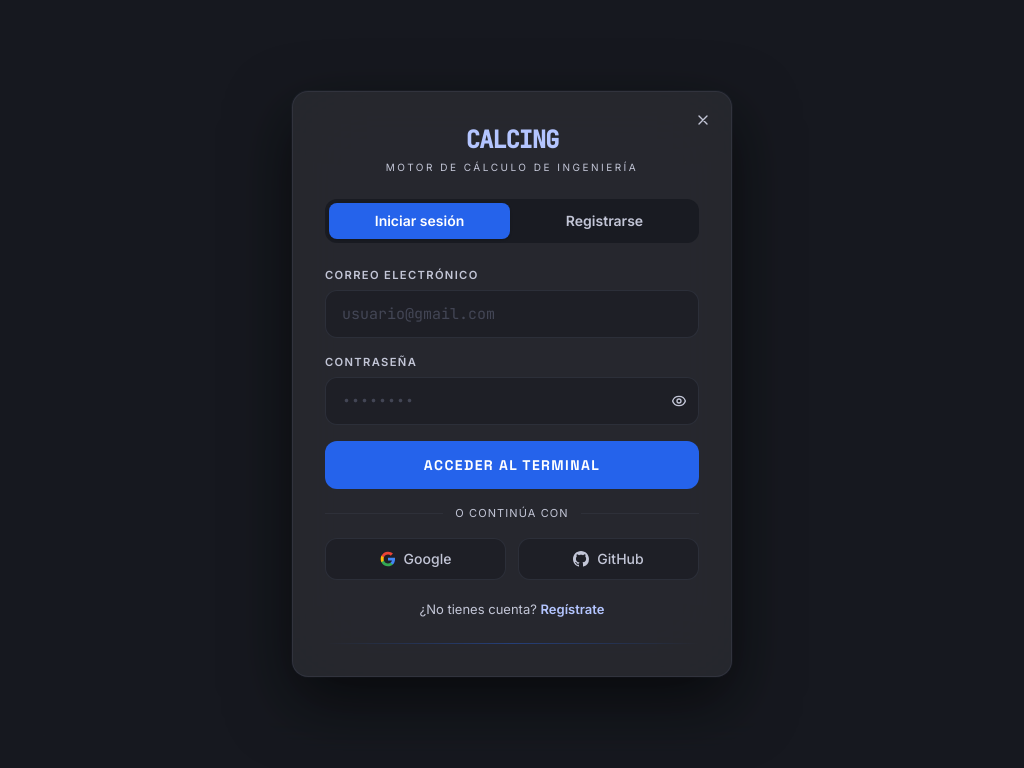
AuthModal › register flow › on register error (EMAIL_ALREADY_EXISTS) shows "El correo ya está registrado"
Click the button "Regístrate" at (572,610), box [540,600,604,619]
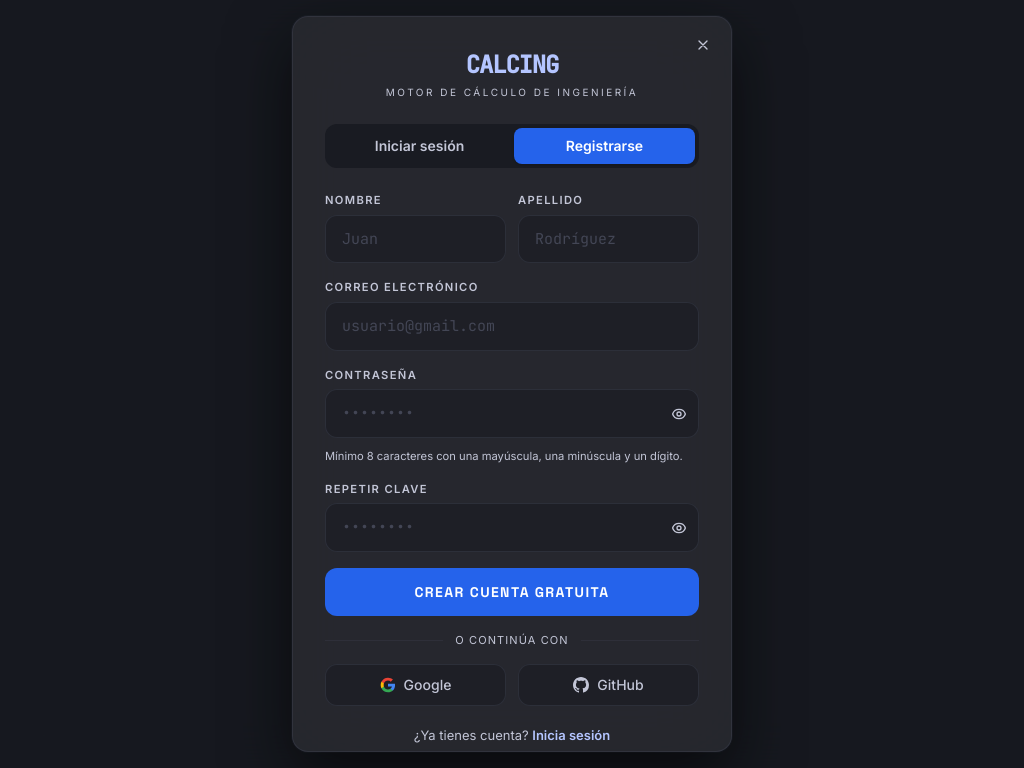
Type "a@b.com" into the field labelled "Correo electrónico" at (512,326), box [325,302,699,351]
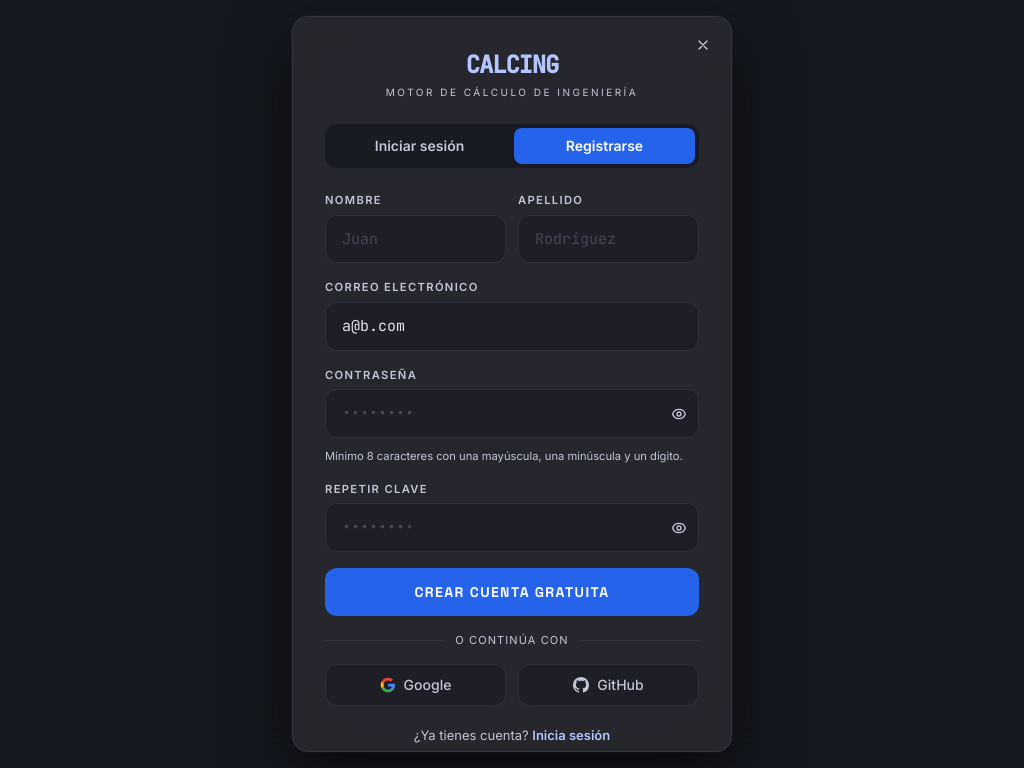
Type "Pass1234" into the password field labelled "Contraseña" at (512,414), box [325,389,699,438]
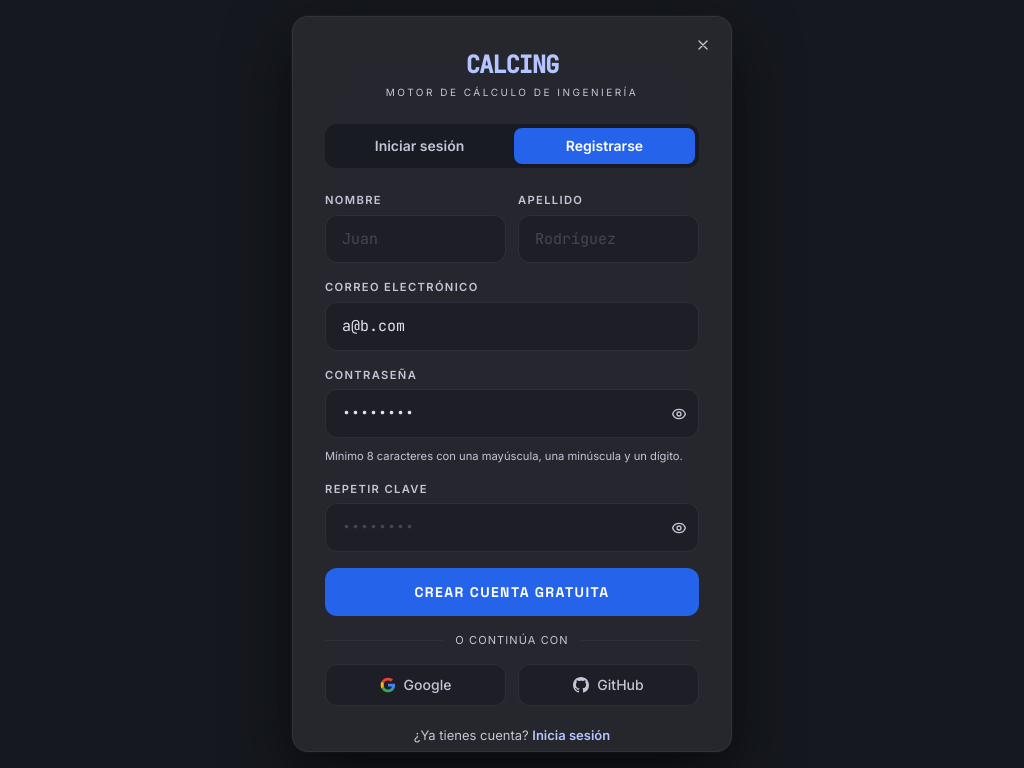
Submit the form with test id "auth-form", box [325,192,699,706]
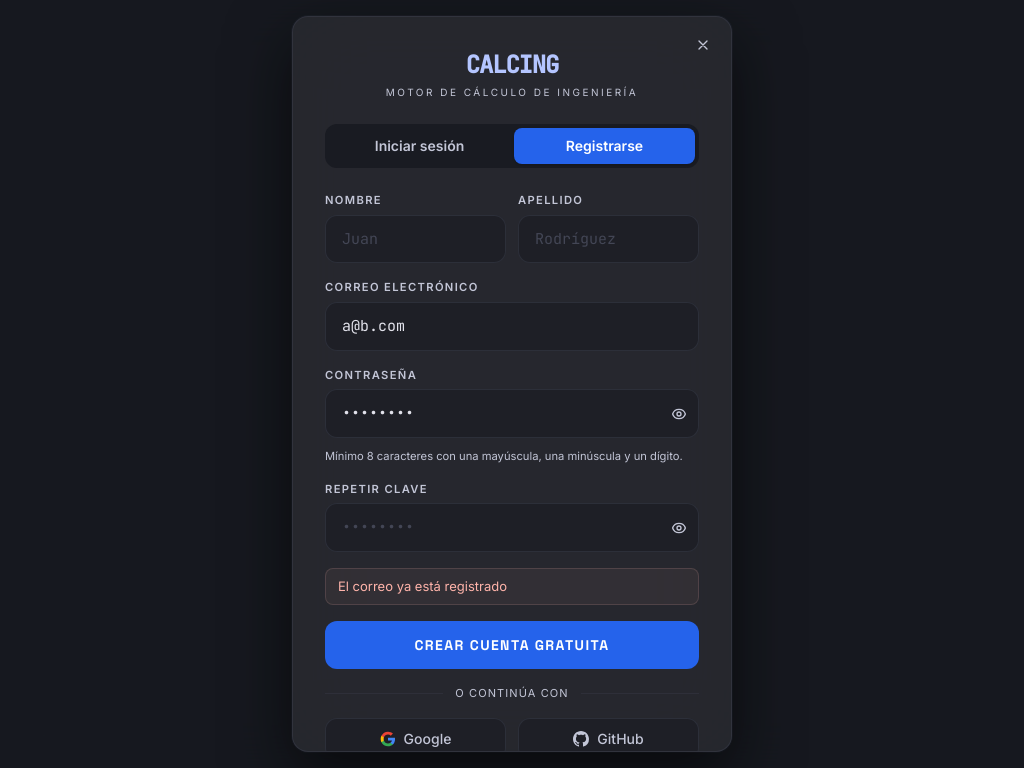
Expected: the message reads "El correo ya está registrado", [338,578,507,594]
